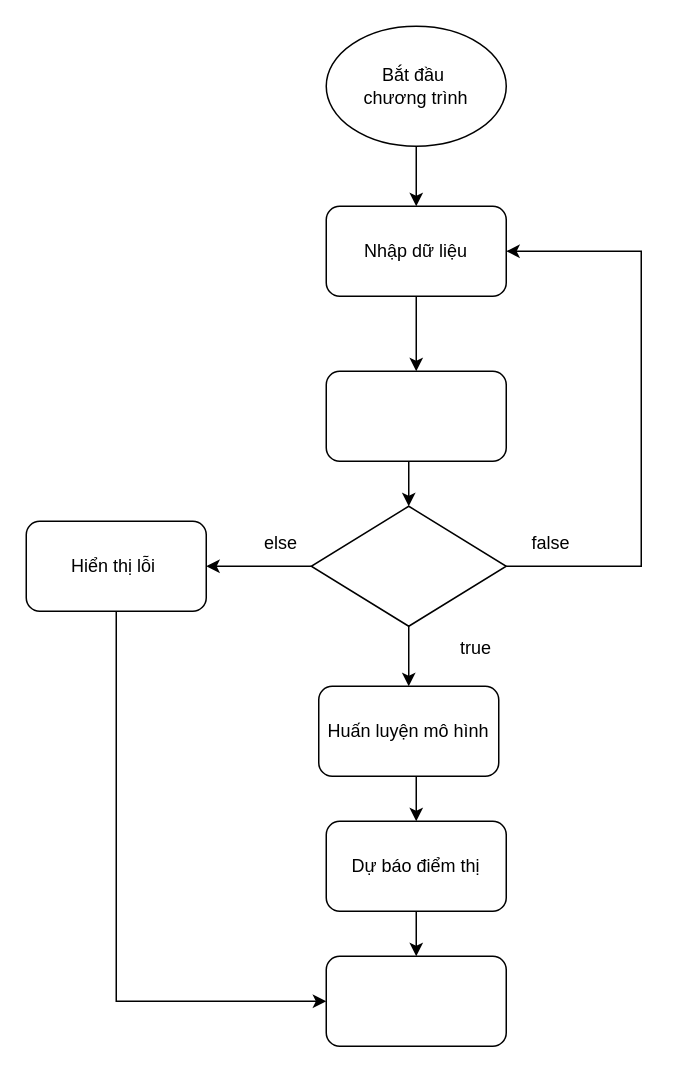
This 680x1073 diagram has some shape labels left out. The shapes that lost their labels are listed below. From the top down, each one's centre as x and y in pixels, then its label:
At point (415, 415): "Tiền xử lý".
At point (408, 565): "Kiểm tra dữ liệu".
At point (415, 1000): "Hiển thị kết quả lên web".
